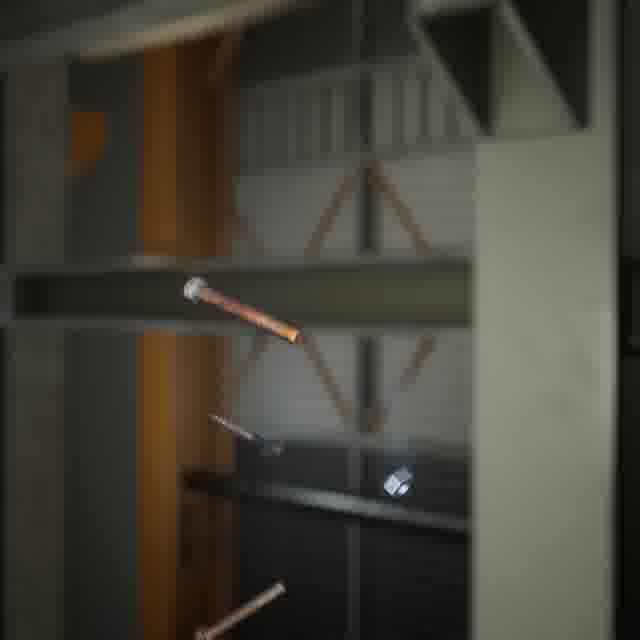bolt: (179, 271, 307, 348), (190, 576, 291, 640), (205, 409, 286, 462)
nut: (378, 463, 418, 504)
